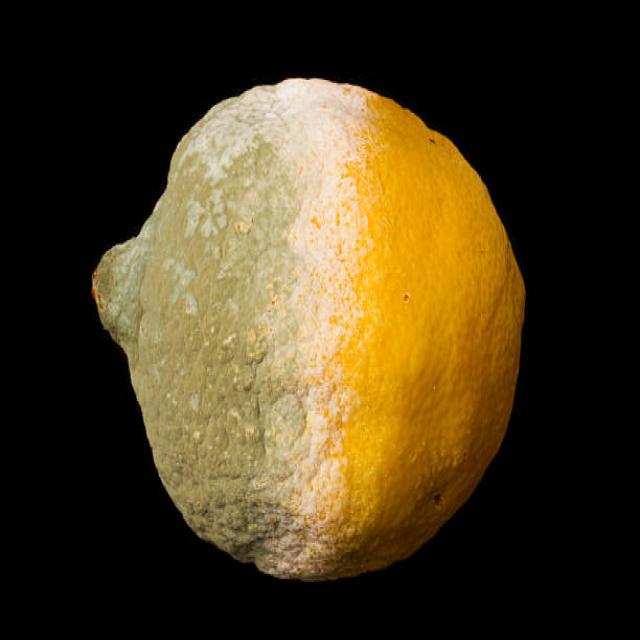Rotten: (91, 75, 529, 584)
